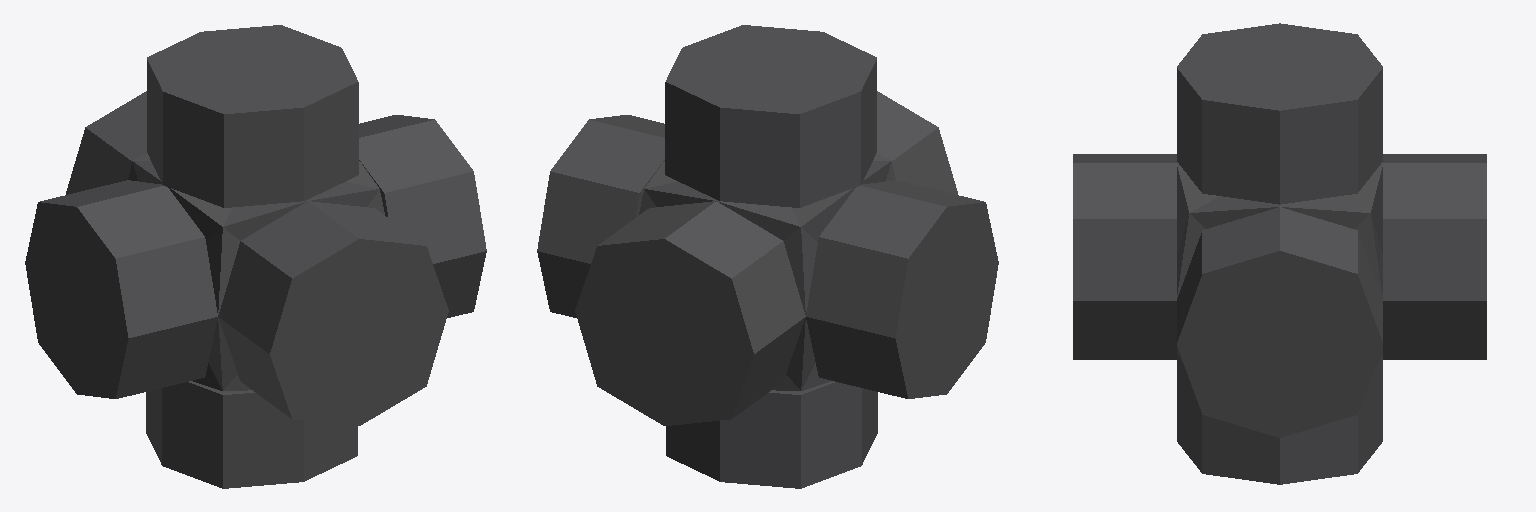
The picture shows the model from 3 angles: view 1: azimuth 30°, elevation 25°; view 2: azimuth 150°, elevation 25°; view 3: azimuth 270°, elevation 25°; orthographic projection.
Visible parts, largest first — view 1: South_Cube.006, East_Cube.006, Down_Cube.006, Up_Cube.006, West_Cube.006, Center_Cube, North_Cube.006; view 2: North_Cube.006, East_Cube.006, Down_Cube.006, Up_Cube.006, West_Cube.006, Center_Cube, South_Cube.006; view 3: West_Cube.006, Down_Cube.006, North_Cube.006, South_Cube.006, Up_Cube.006, Center_Cube.
Boxes of the visible parts, box(x1,y1,x2,y2) form: South_Cube.006: box(218, 201, 448, 425); East_Cube.006: box(25, 180, 217, 398); Down_Cube.006: box(147, 25, 358, 207); Up_Cube.006: box(146, 381, 357, 488); West_Cube.006: box(359, 115, 486, 317); Center_Cube: box(128, 153, 384, 390); North_Cube.006: box(66, 91, 146, 194); North_Cube.006: box(575, 201, 805, 425); East_Cube.006: box(806, 180, 998, 398); Down_Cube.006: box(665, 25, 876, 207); Up_Cube.006: box(666, 381, 877, 488); West_Cube.006: box(537, 115, 664, 317); Center_Cube: box(639, 153, 895, 390); South_Cube.006: box(877, 91, 957, 194); West_Cube.006: box(1177, 207, 1382, 437); Down_Cube.006: box(1177, 23, 1382, 204); North_Cube.006: box(1383, 154, 1486, 359); South_Cube.006: box(1073, 154, 1176, 359); Up_Cube.006: box(1177, 353, 1382, 484); Center_Cube: box(1177, 162, 1382, 366).
Bounding box in the file's own units: 1 × 0.9984 × 1.
2 materials, 1 textured.